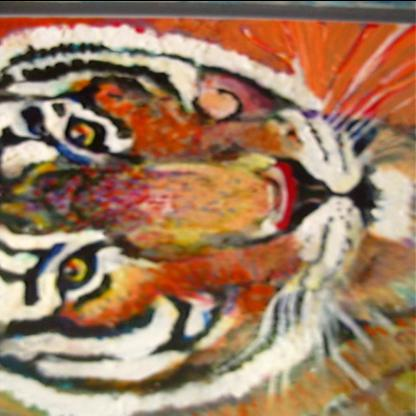tiger: (2, 20, 415, 415)
